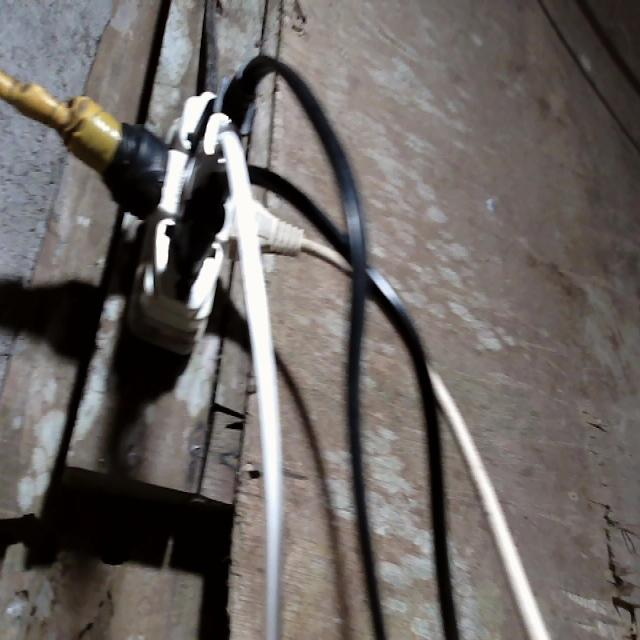-: (67, 53, 298, 359)
